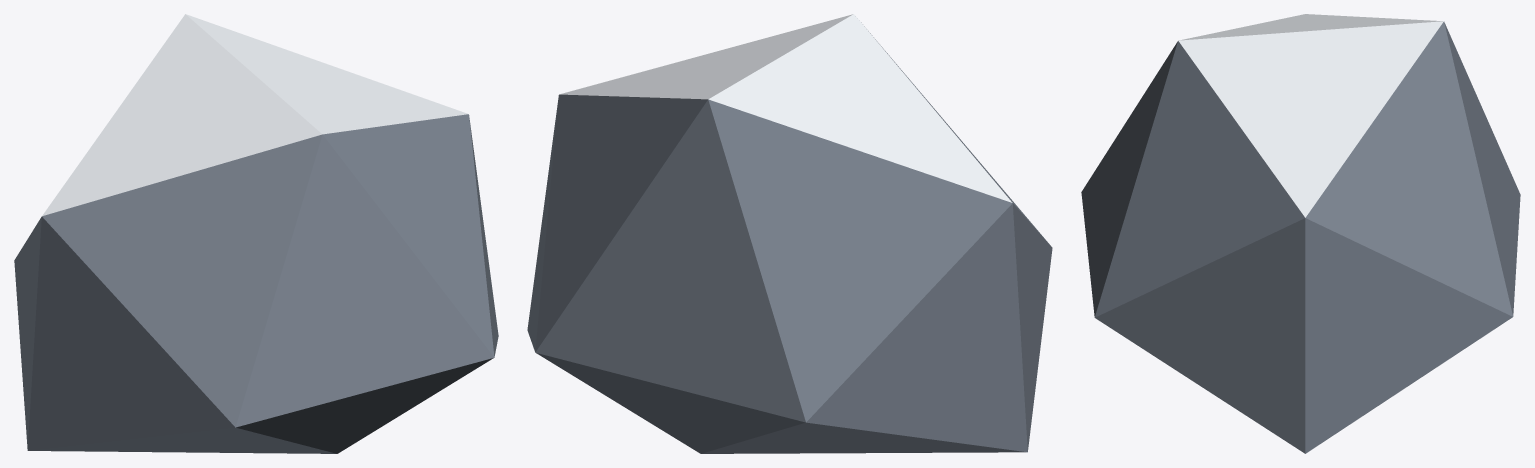
File: stone.glb
The picture shows the model from 3 angles, left to right: view 1: azimuth 30°, elevation 25°; view 2: azimuth 150°, elevation 25°; view 3: azimuth 270°, elevation 25°; orthographic projection. The views are drawn at different scales.
Visible parts, largest first — view 1: Stone; view 2: Stone; view 3: Stone.
Part boxes in pixels (<box>): Stone: <box>14,14,498,453</box>; Stone: <box>527,14,1052,453</box>; Stone: <box>1081,14,1520,453</box>.
Bounding box in the file's own units: 0.3 × 0.2 × 0.25.
